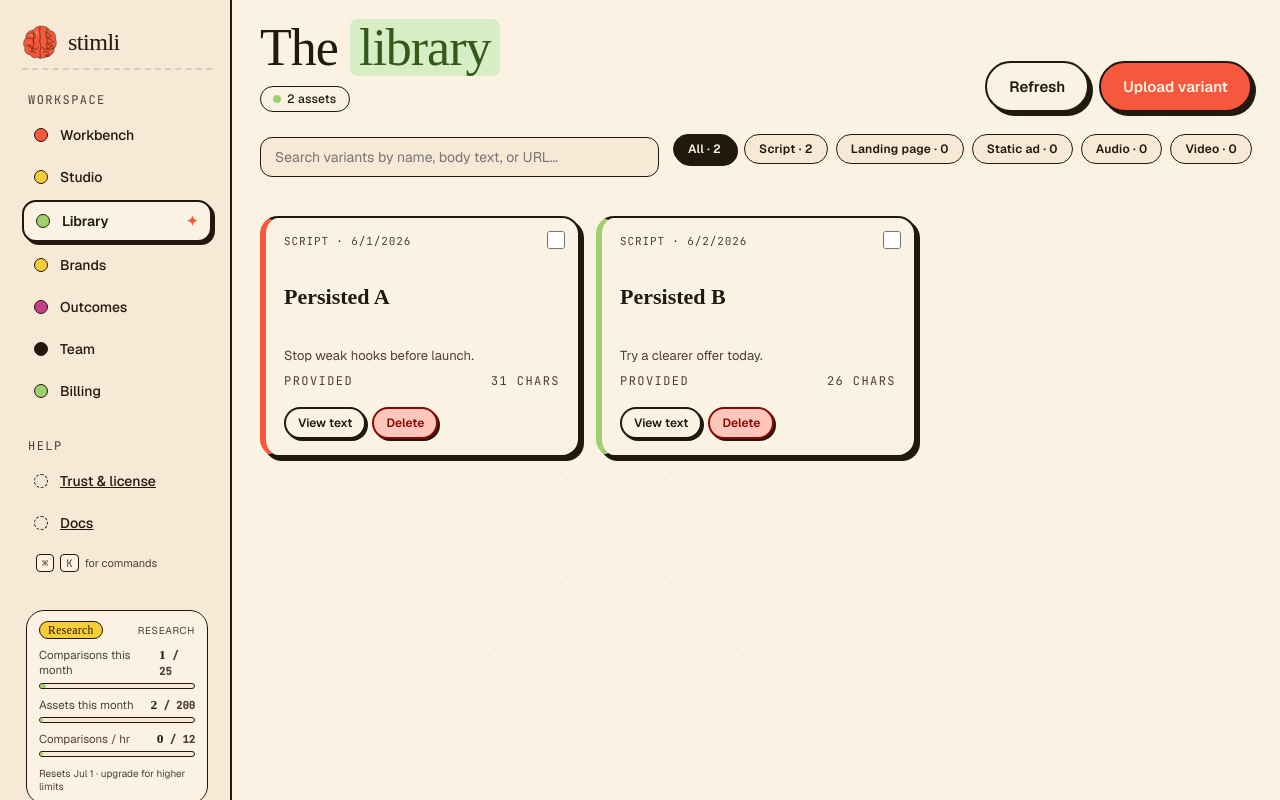
Test case: AppShell routing and shell flows › prunes deleted selections and expanded rows on library refresh
Expected: the heading "Persisted A" is shown, 284,284 -> 390,309
Click the label named "Select Persisted A": click(556, 240) 547,231 -> 565,249
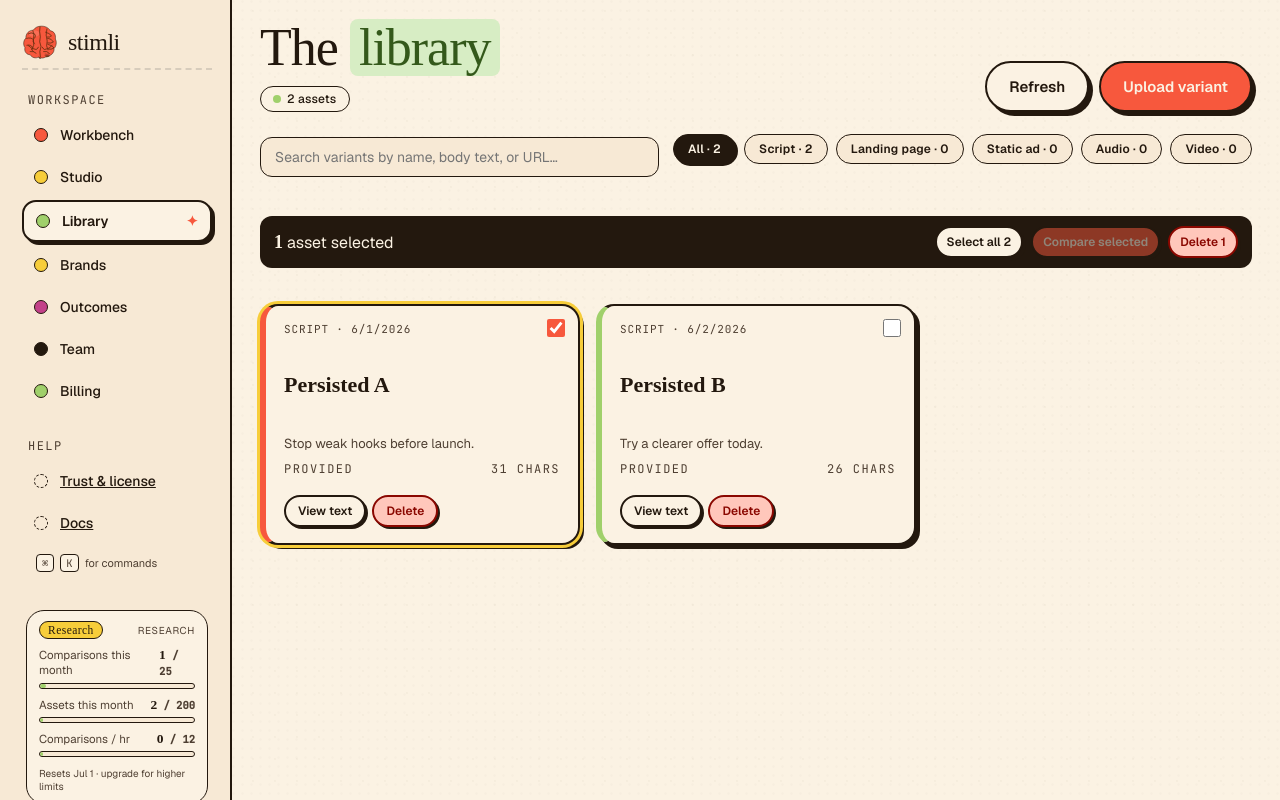
Click the button "View text" below "31": click(325, 511) 284,495 -> 366,527
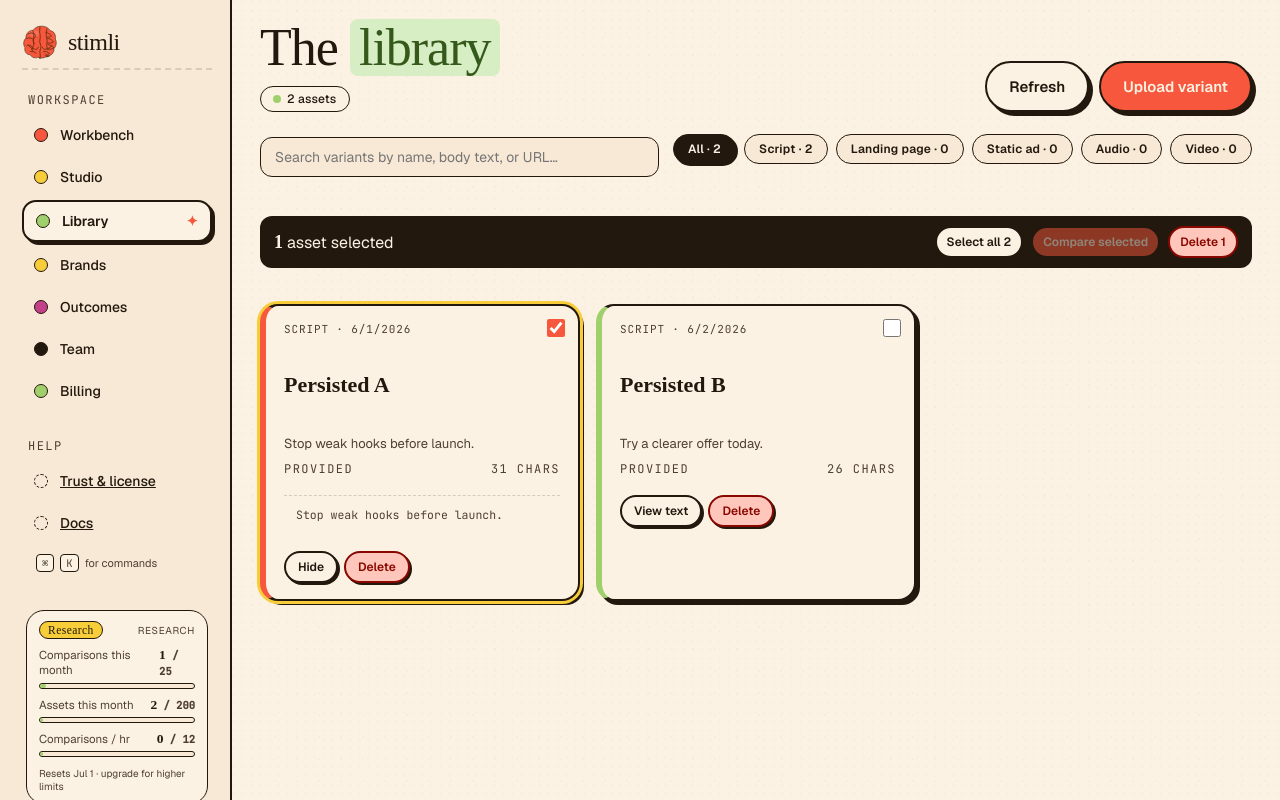
Now the element named "bulk actions" reads "1 asset selected Select all 2 Compare selected Delete 1", box 260,216 -> 1252,268
Click the button "Refresh": click(1037, 86) 985,61 -> 1089,112
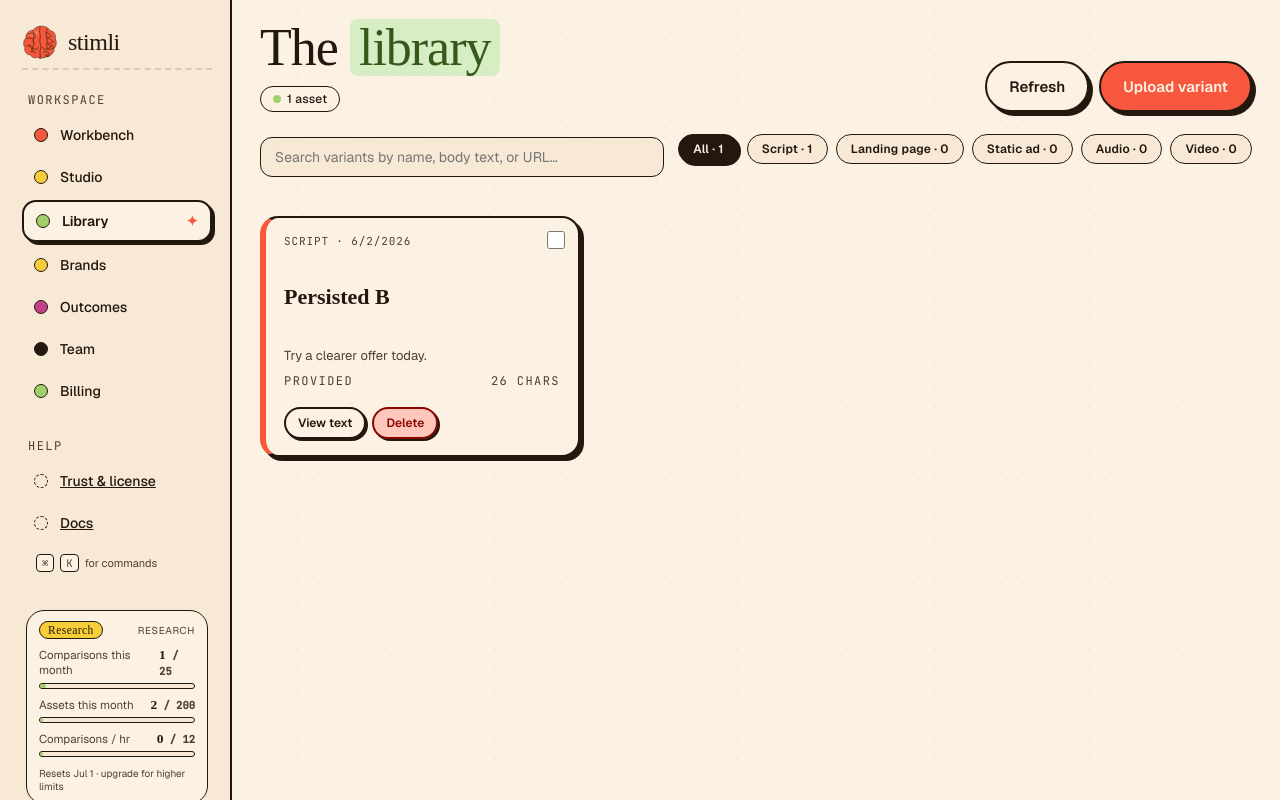
Now the heading "Persisted A" is gone
Now the text "Stop weak hooks before launch" is gone
